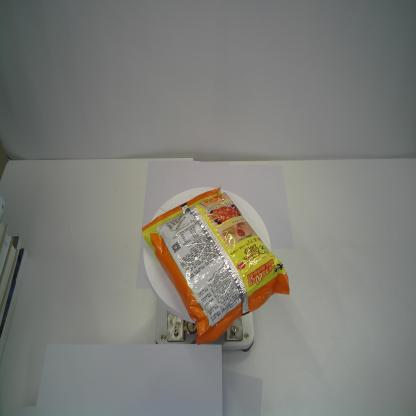Instant Noodles: (141, 184, 291, 346)
